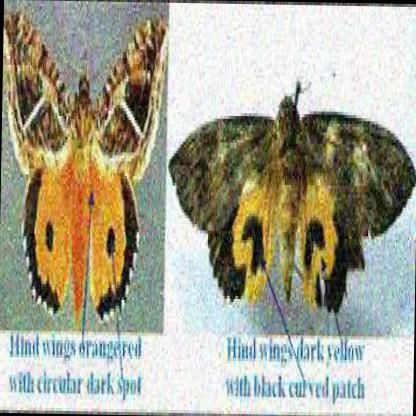fruit sucking moth: (169, 97, 415, 317), (5, 13, 167, 332)
